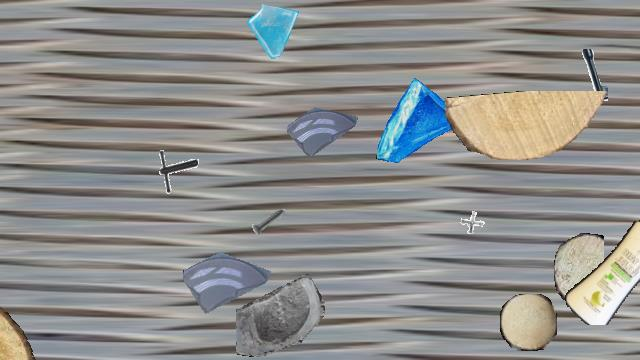glass: (374, 77, 468, 171), (236, 271, 324, 359), (183, 234, 271, 322), (287, 91, 359, 163), (246, 1, 304, 59)
metal: (550, 49, 608, 107), (150, 147, 198, 195), (248, 201, 290, 243), (454, 203, 494, 243)
plastic: (562, 216, 640, 324)
wood: (445, 91, 611, 159), (0, 265, 39, 359), (554, 233, 604, 305), (500, 294, 556, 350)
